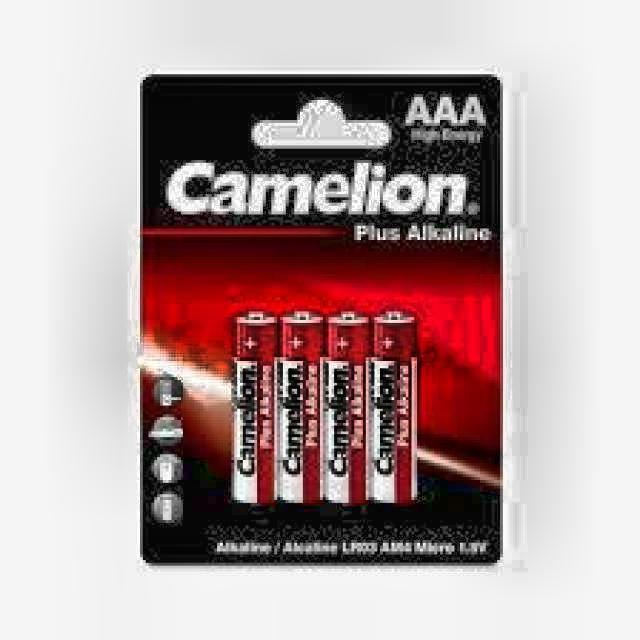battery: (143, 74, 500, 560), (280, 311, 326, 504), (231, 312, 275, 505)
